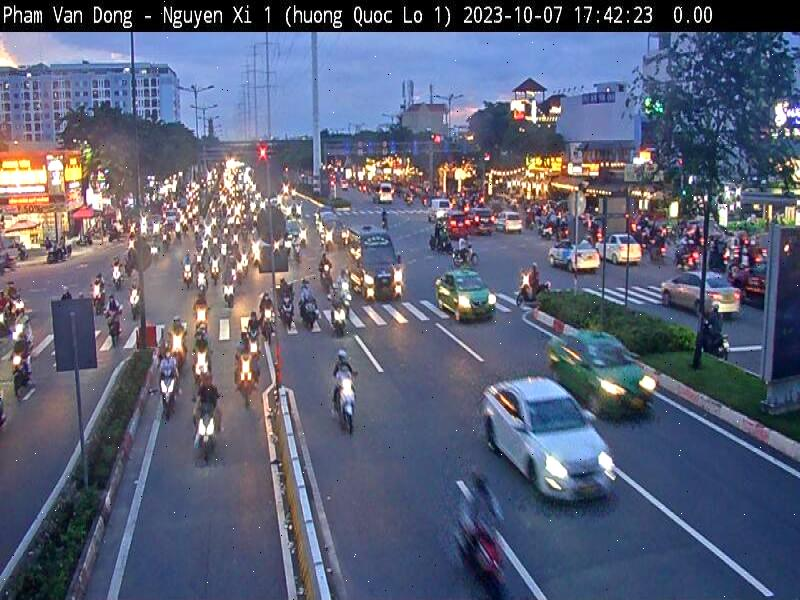car: (480, 375, 616, 503), (544, 328, 658, 424), (662, 271, 740, 317), (434, 268, 498, 322), (358, 233, 403, 302), (499, 211, 525, 234)
